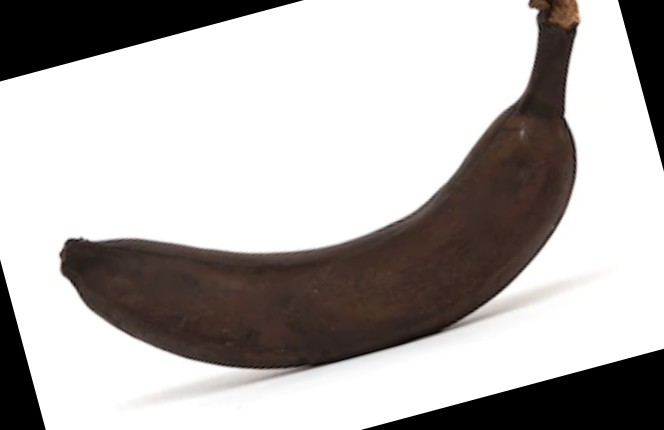rotten_banana: (59, 1, 578, 370)
